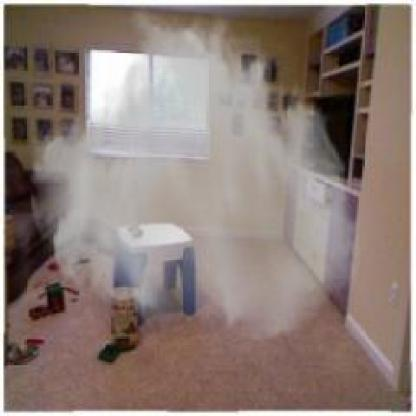Smoke: (26, 4, 364, 343)
